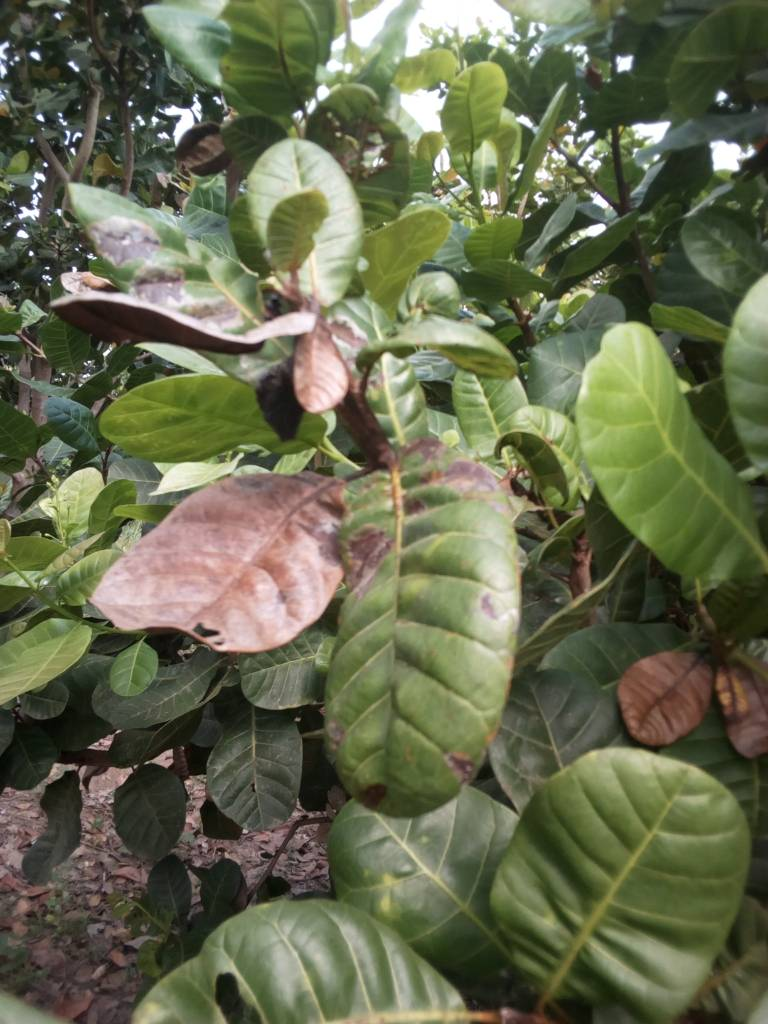Dessèchement des bourgeons: (255, 359, 301, 435)
